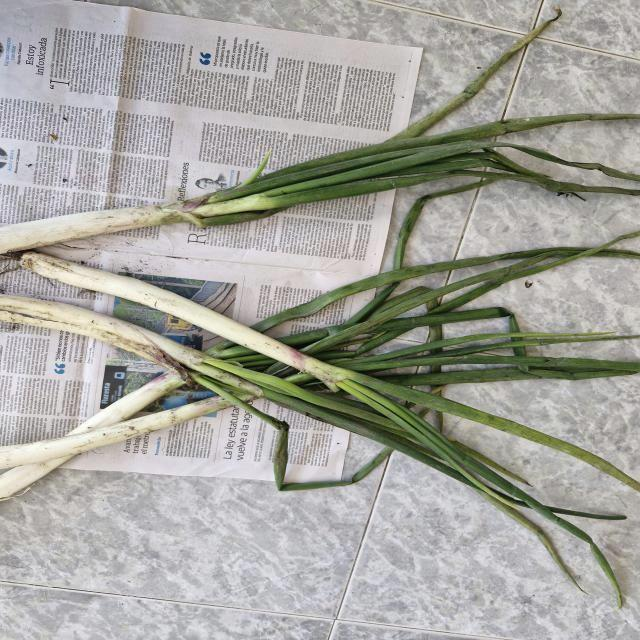green_onion: (28, 244, 640, 555)
